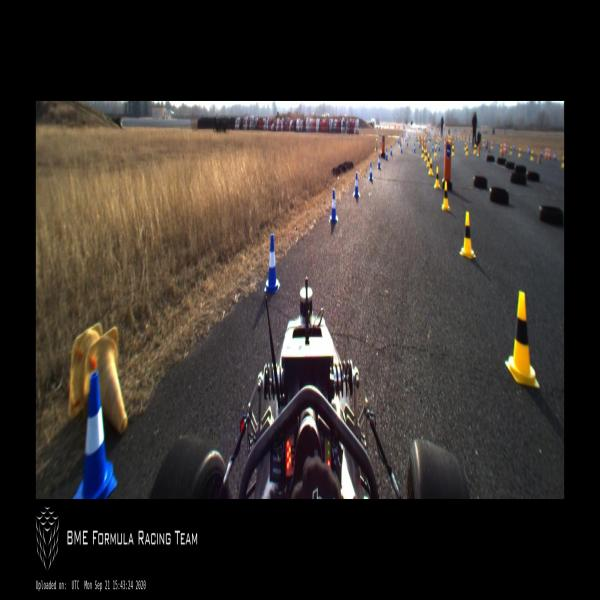blue_cone: (73, 372, 118, 498), (264, 234, 280, 292), (329, 189, 338, 223), (353, 172, 360, 197), (368, 162, 373, 181), (378, 154, 381, 170), (385, 149, 388, 160), (400, 144, 403, 153), (413, 144, 416, 153), (390, 144, 392, 156)
yellow_cone: (504, 291, 540, 388), (460, 212, 476, 258), (442, 180, 450, 212), (434, 167, 440, 188), (429, 157, 432, 176), (424, 149, 427, 162), (421, 146, 424, 158), (434, 146, 437, 156), (452, 144, 454, 156), (427, 154, 429, 166), (466, 144, 468, 156), (464, 143, 467, 151), (474, 144, 476, 154)
